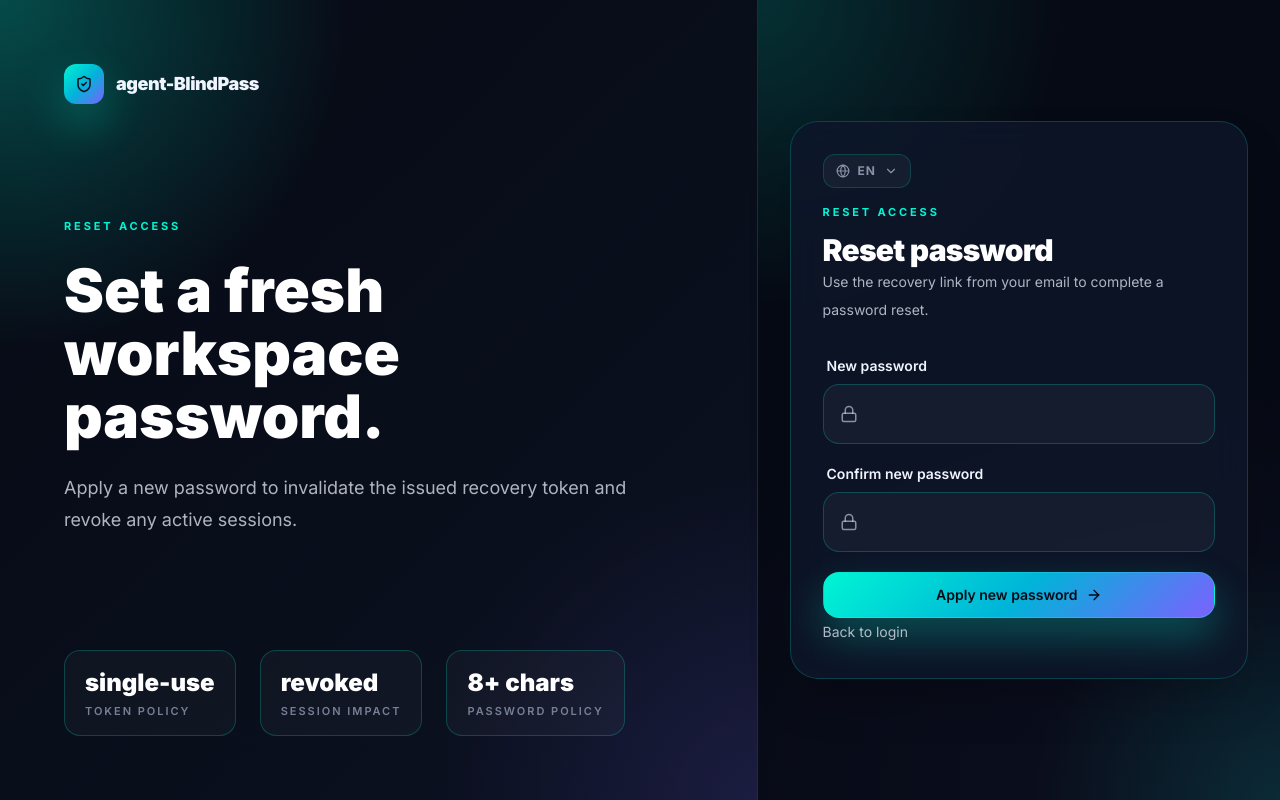
Test: dashboard email flows › resets a password from the public reset route and returns to login
The image size is (1280, 800).
Expected: the heading "Reset password" is shown, [822, 232, 1053, 268]
Type "NewPassword123!" into the password field labelled "New password" at {"x": 1019, "y": 414}, box [824, 385, 1214, 443]
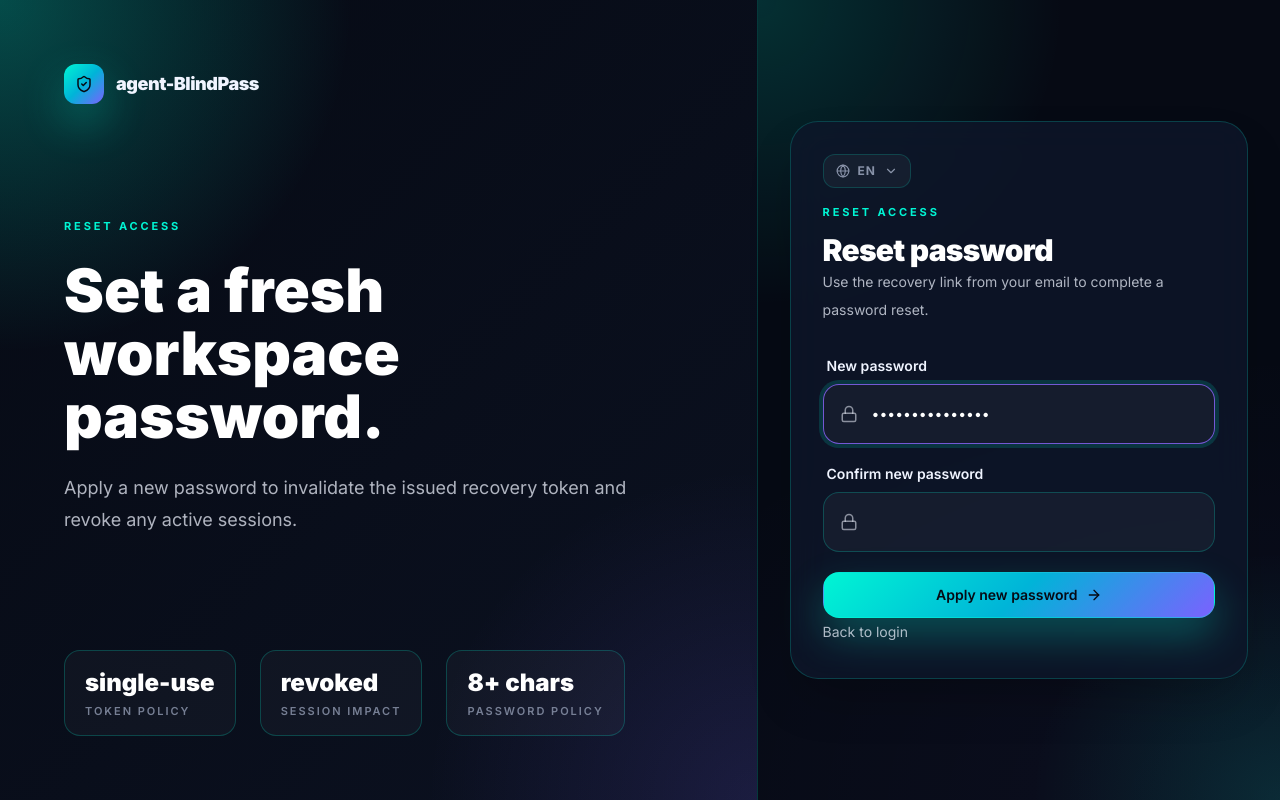
Type "NewPassword123!" into the password field labelled "Confirm new password" at {"x": 1019, "y": 522}, box [824, 493, 1214, 551]
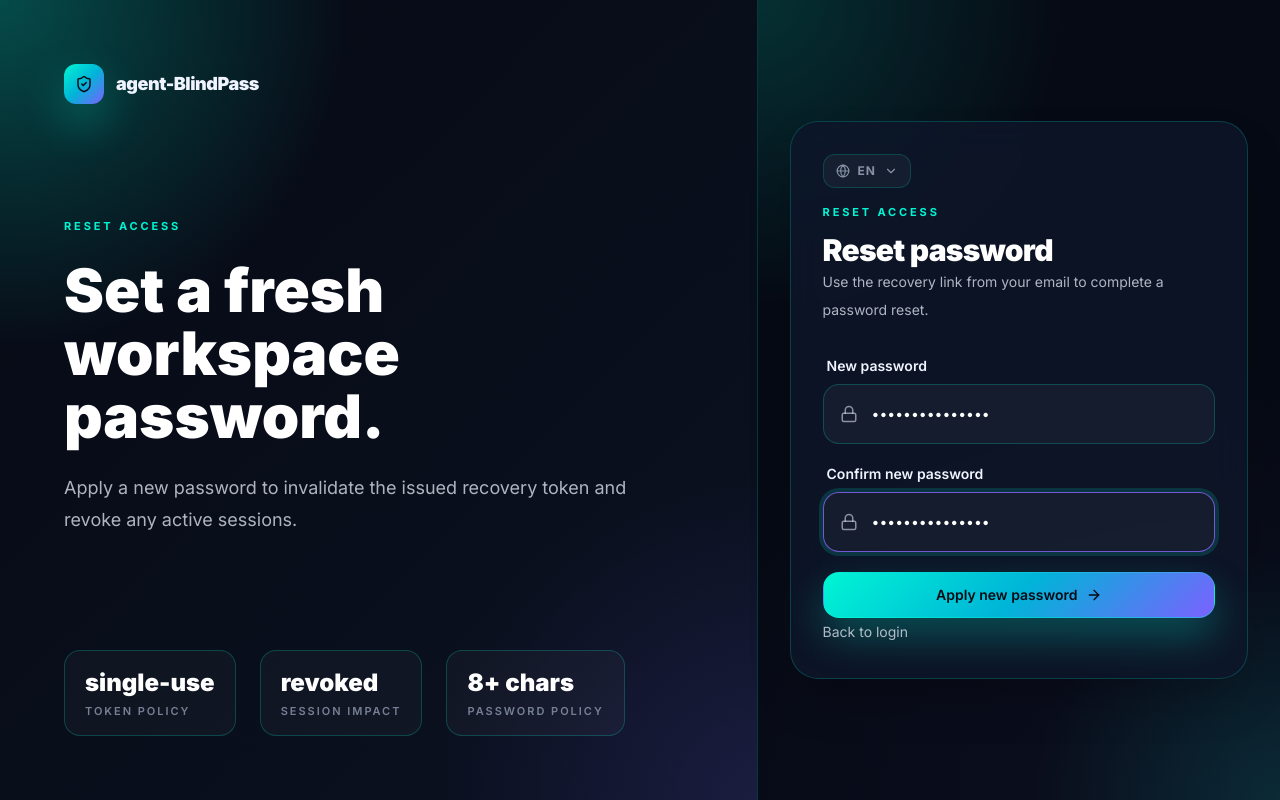
Click the button "Apply new password" at {"x": 1019, "y": 595}, box [822, 572, 1215, 618]
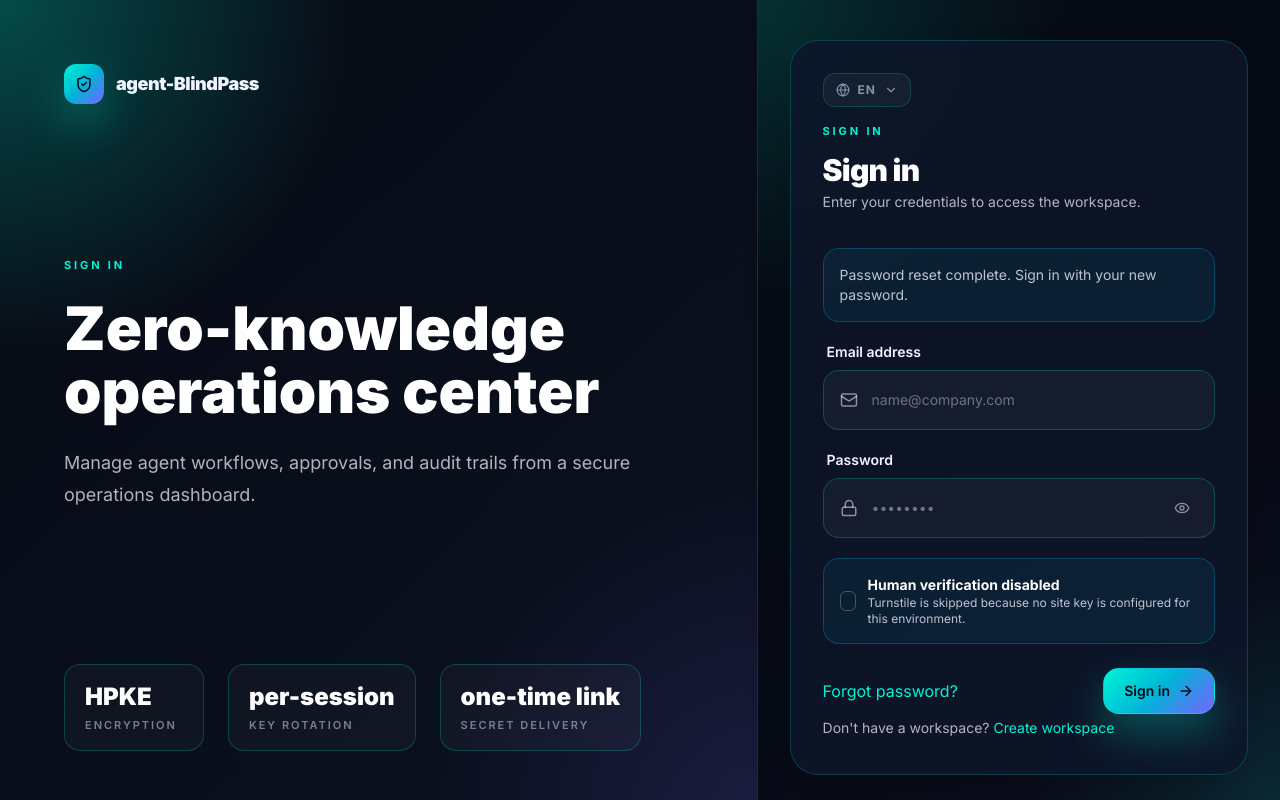
Expected: the field labelled "Email address" is shown, [824, 370, 1214, 428]
Expected: the text "Password reset complete. Sign in with your new password." is shown, [822, 248, 1215, 322]
